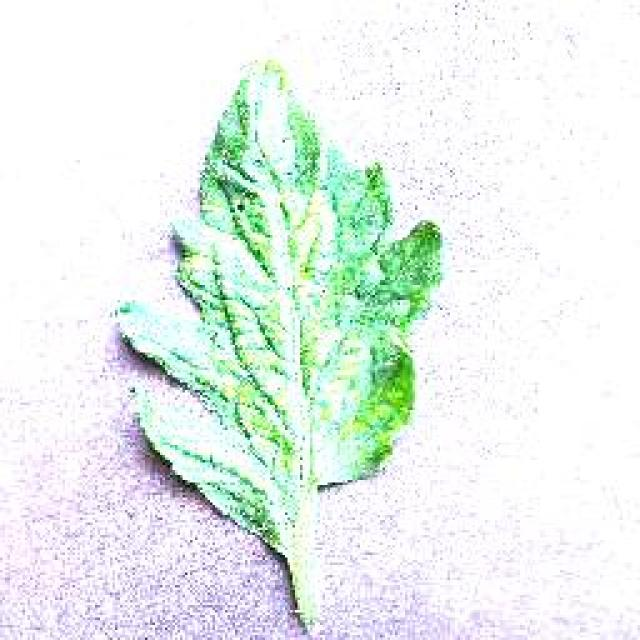Tomato___Tomato_mosaic_virus: (120, 62, 440, 630)
